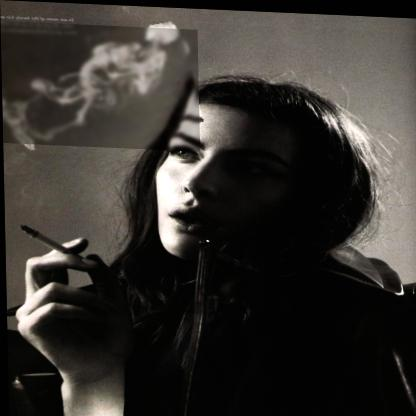smoke: (0, 21, 199, 150)
